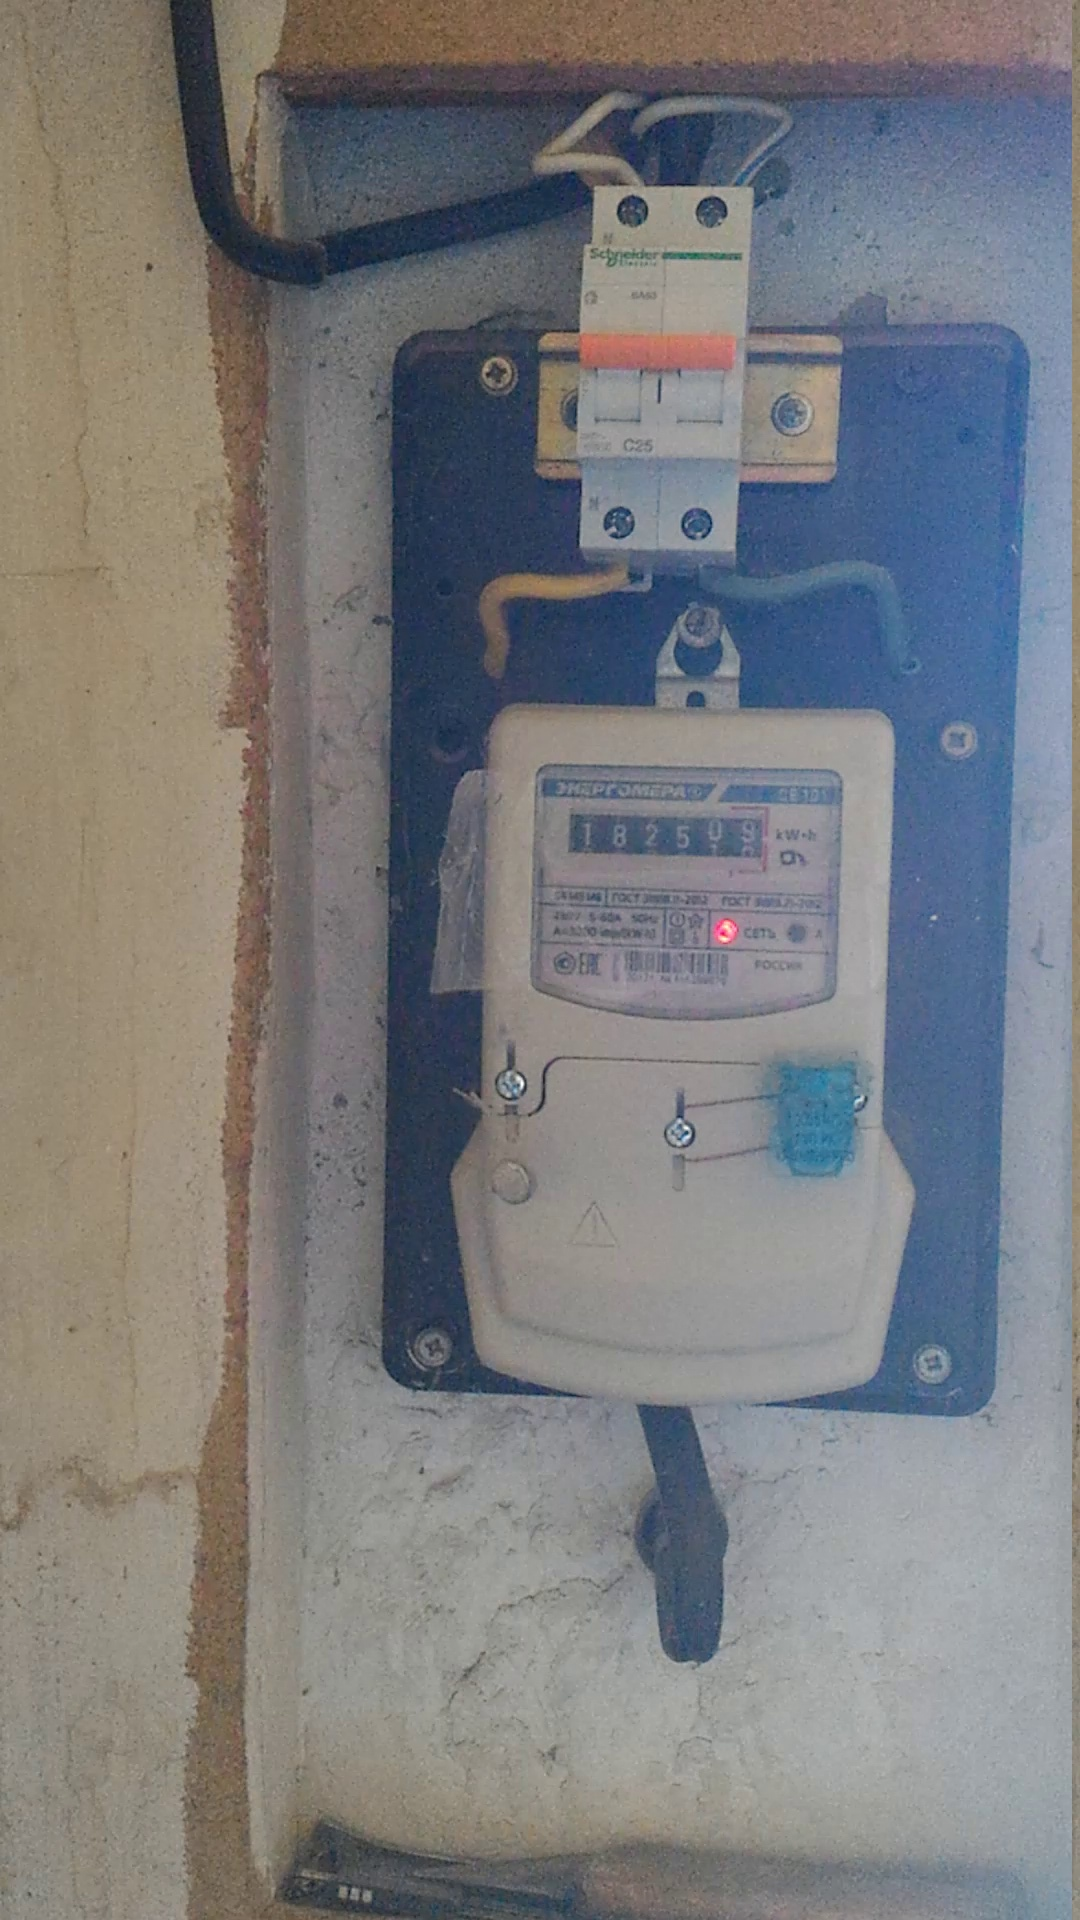counter: (458, 703, 895, 1398)
counter_screen: (567, 812, 765, 860)
